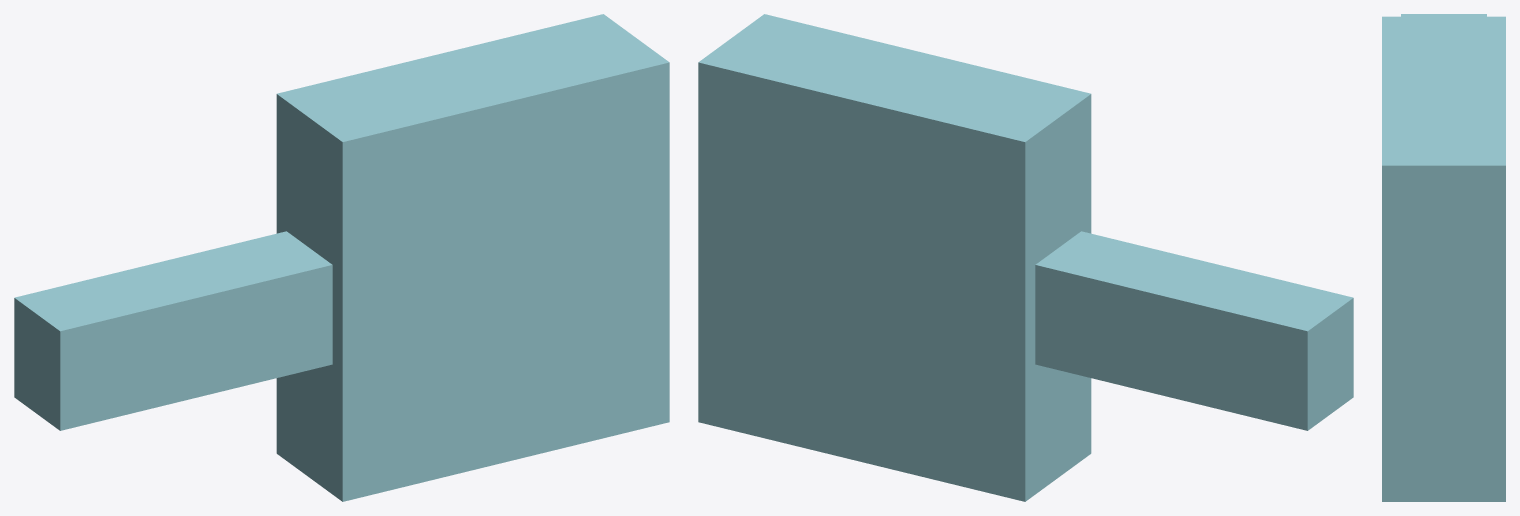
File: cuboid_brush_v10006.obj
The picture shows the model from 3 angles, left to right: view 1: azimuth 30°, elevation 25°; view 2: azimuth 150°, elevation 25°; view 3: azimuth 270°, elevation 25°; orthographic projection. The views are drawn at different scales.
Size of the model in its own units: 0.2073 by 0.1189 by 0.0396.
1 material, 1 textured.
